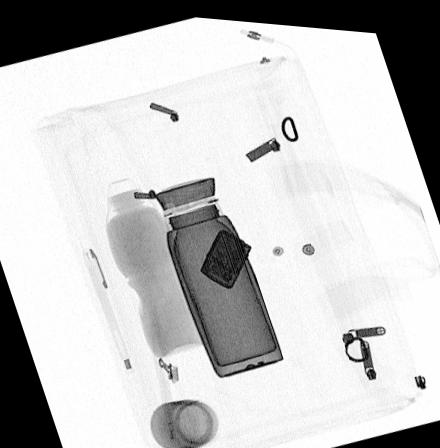Lighter: (198, 225, 251, 285)
